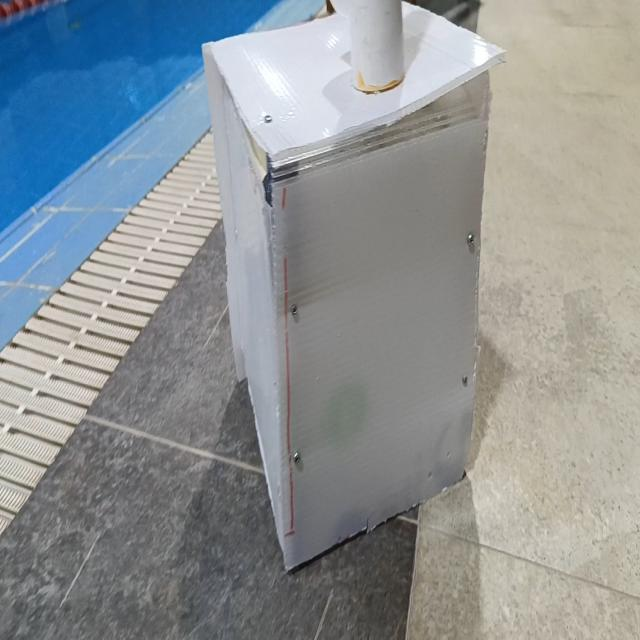Cube: (200, 2, 507, 574)
